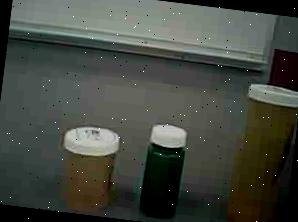Bottle A: (223, 75, 298, 222)
Bottle B: (49, 118, 126, 218)
Bottle C: (133, 119, 201, 222)
